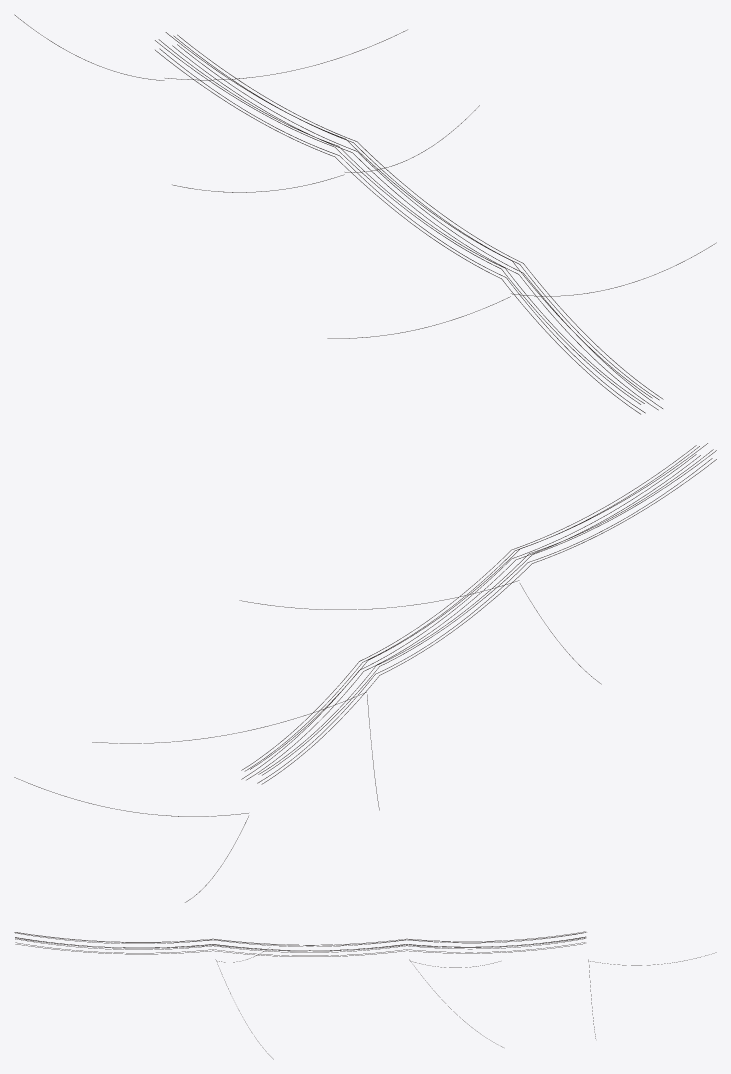
Rendered from power_lines.glb.
The picture shows the model from 3 angles, top to bottom: view 1: azimuth 30°, elevation 25°; view 2: azimuth 150°, elevation 25°; view 3: azimuth 270°, elevation 25°; orthographic projection. The views are drawn at different scales.
Visible parts, largest first — view 1: power_lines; view 2: power_lines; view 3: power_lines.
Part boxes in pixels (x1,y1,x2,y2): power_lines: [14, 14, 716, 414]; power_lines: [14, 443, 716, 902]; power_lines: [14, 931, 716, 1059].
Bounding box in the file's own units: 38.12 × 7.9 × 102.
1 material, 1 textured.
